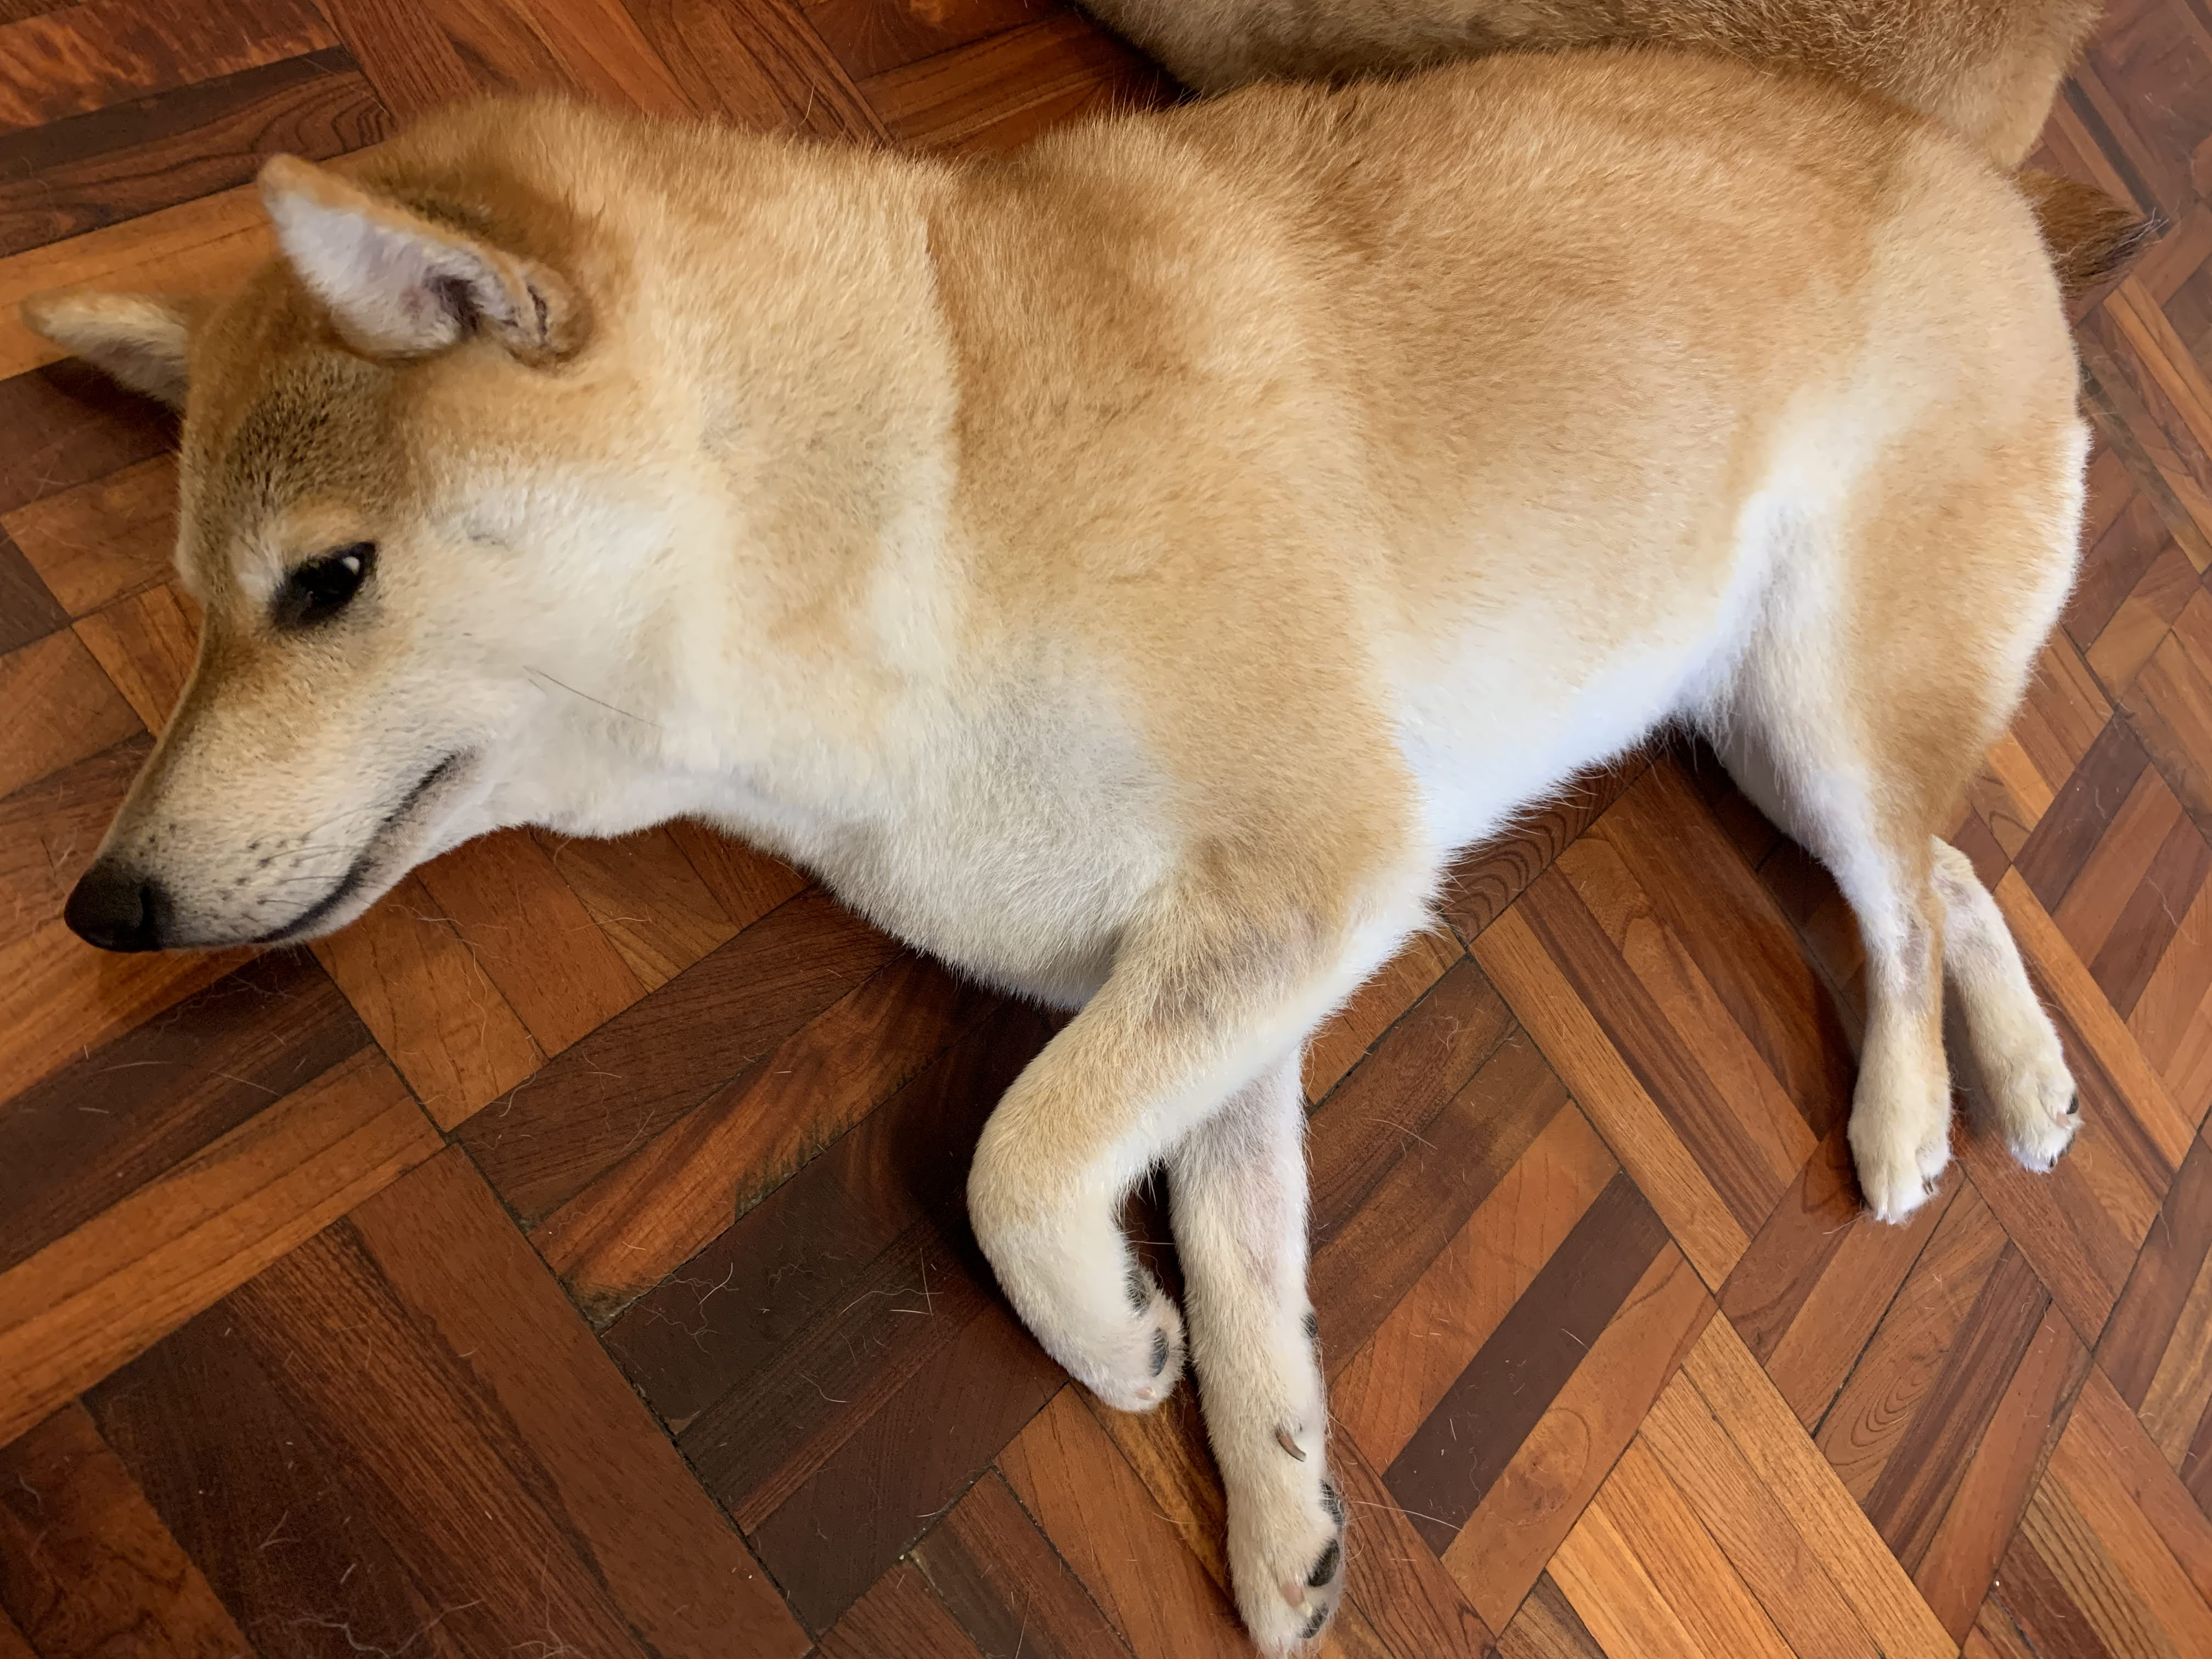Get down: (19, 5, 2172, 1626)
